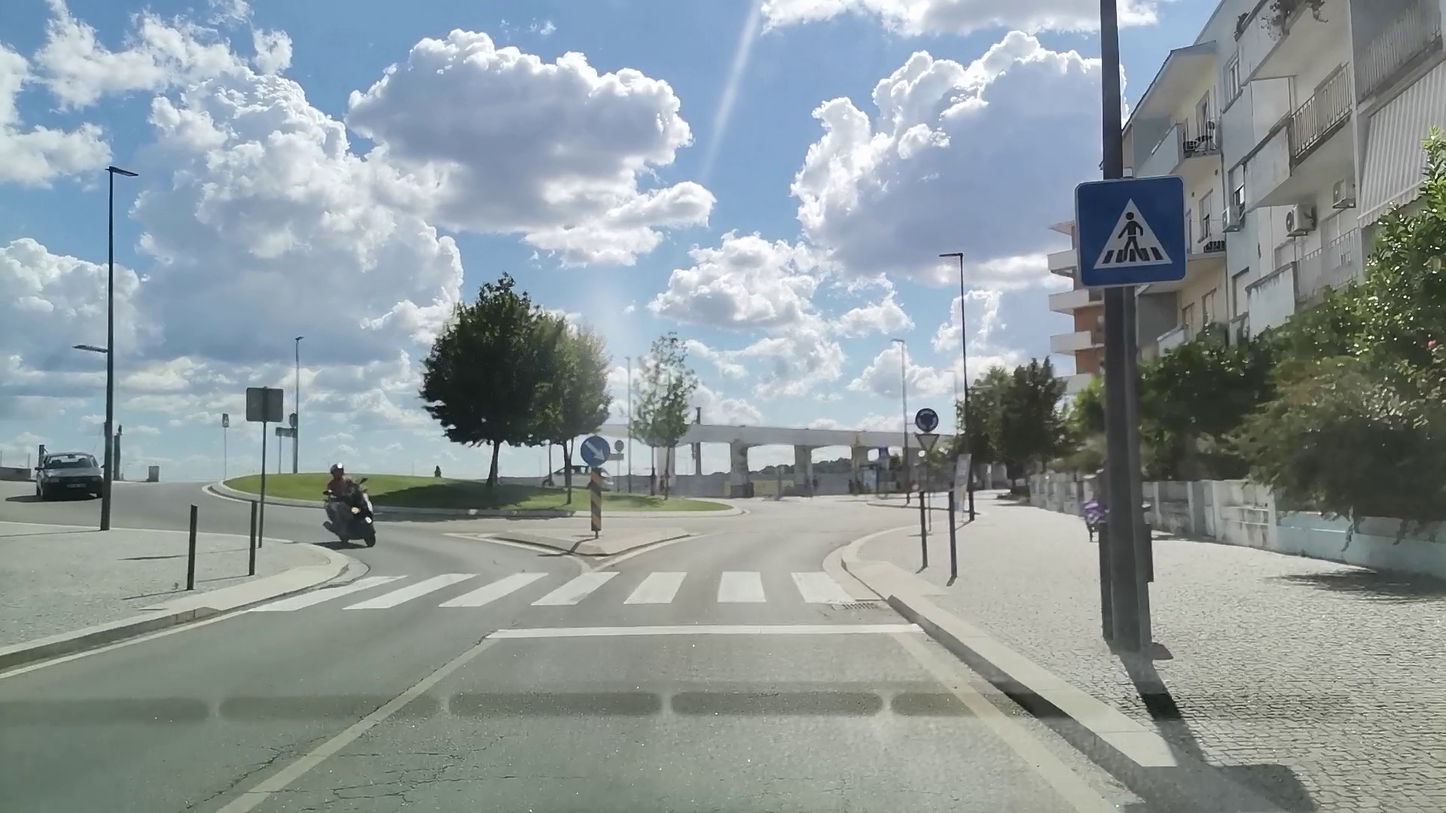Stairs: (249, 568, 860, 614)
